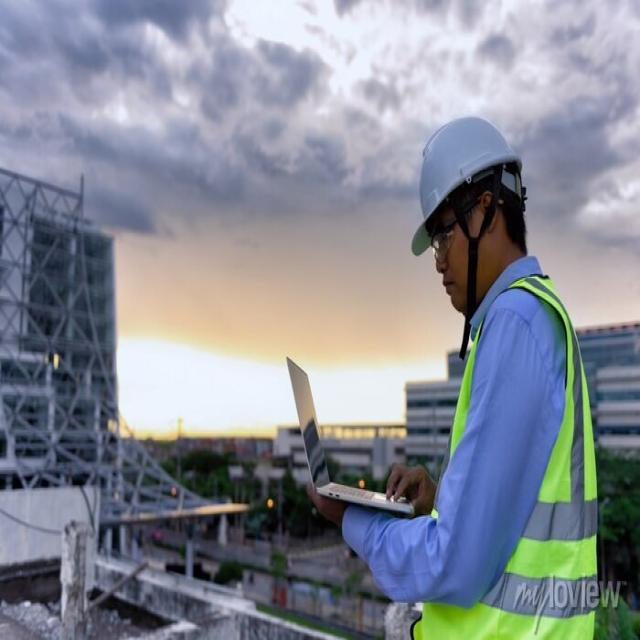goggles: (430, 197, 498, 259)
helmet: (401, 100, 533, 255)
vest: (412, 271, 610, 640)
